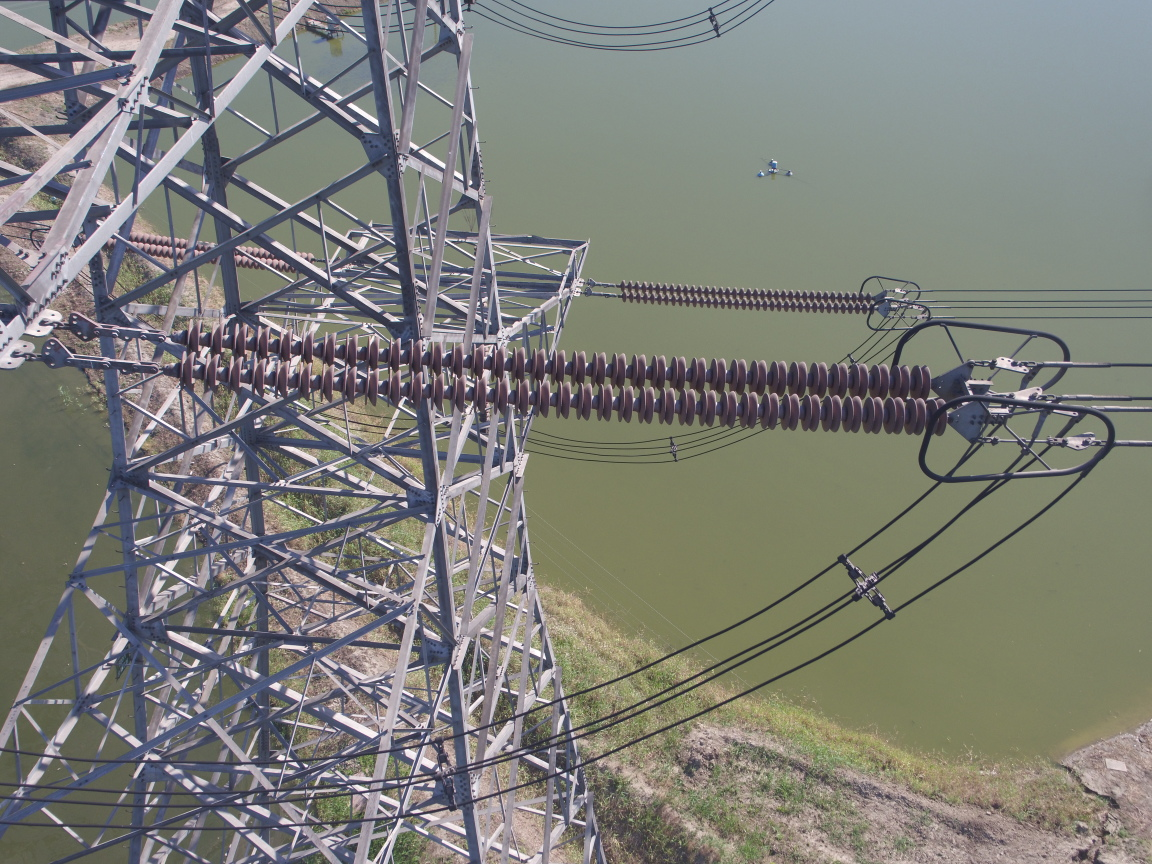insulator: (130, 317, 959, 439), (607, 278, 883, 317), (130, 229, 321, 274)
